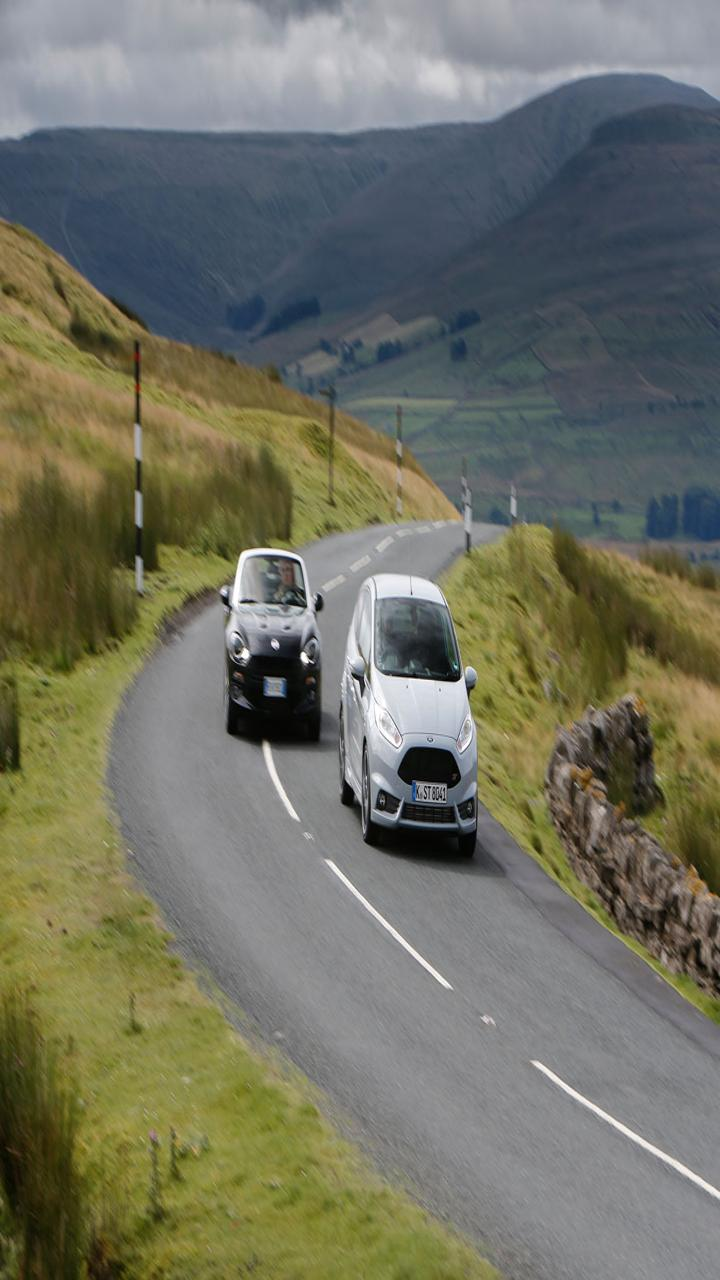vehicle: (337, 574, 498, 867), (223, 541, 327, 744)
